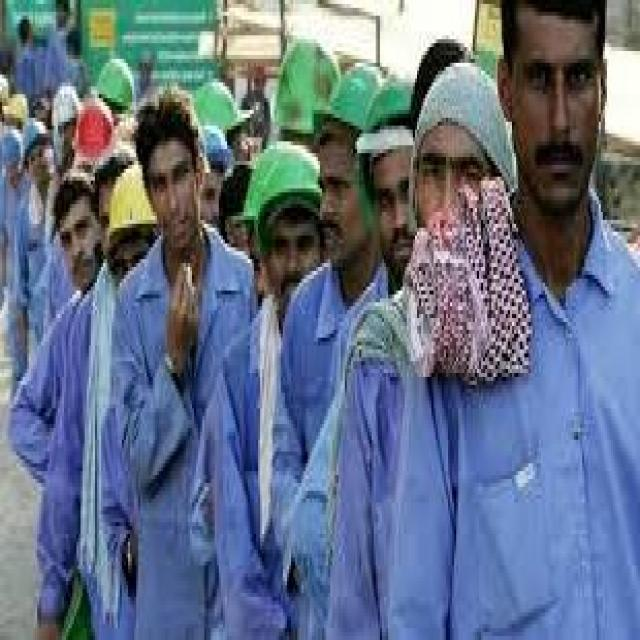Safety-Helmet: (68, 103, 114, 160)
